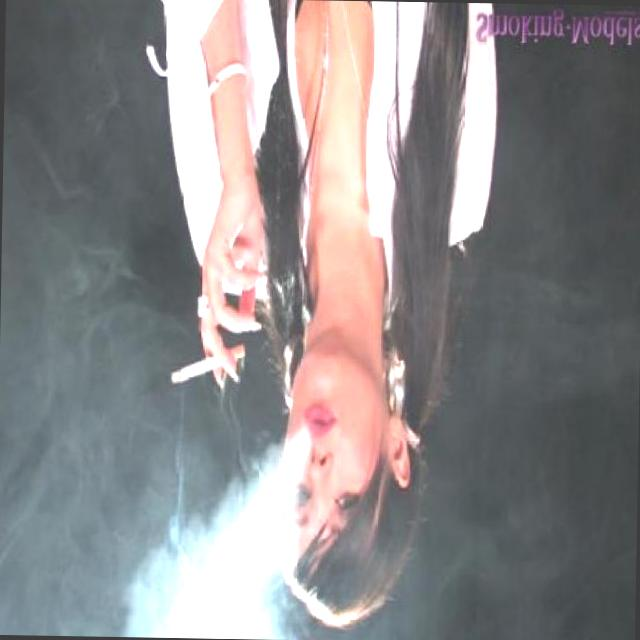smoke: (168, 340, 246, 390)
